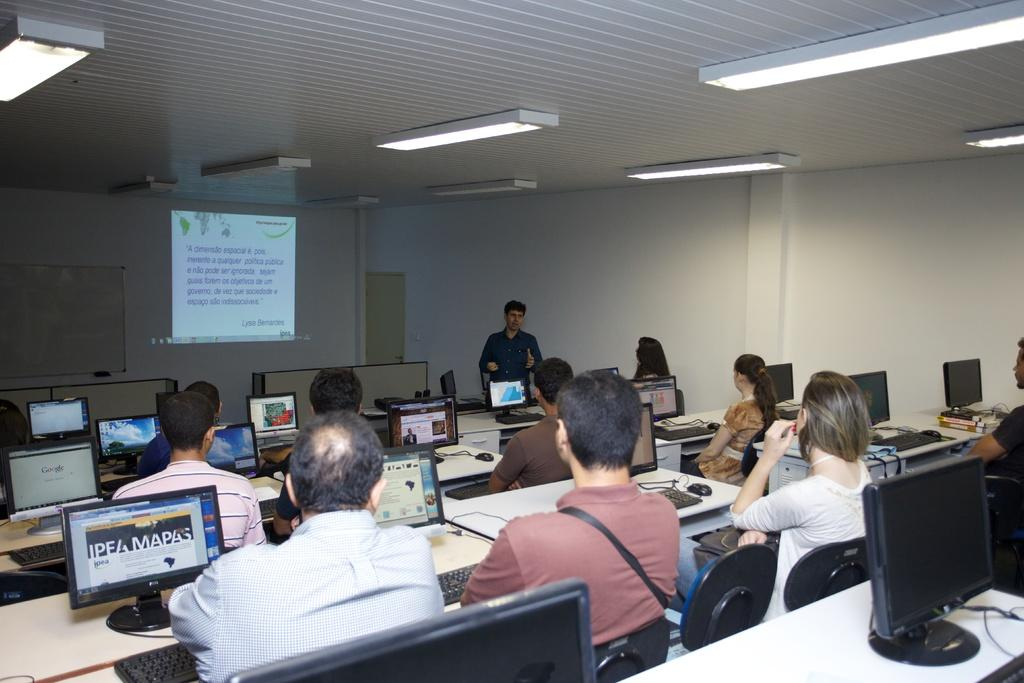Computer-monitor: (227, 585, 602, 682), (866, 443, 1011, 653), (61, 484, 230, 630), (7, 441, 113, 536), (376, 443, 445, 538), (385, 392, 463, 459), (97, 415, 162, 484), (938, 354, 987, 427), (847, 368, 893, 442), (25, 400, 97, 446), (244, 388, 298, 446), (620, 404, 659, 483), (632, 375, 680, 428), (760, 365, 793, 416), (484, 378, 527, 411)
